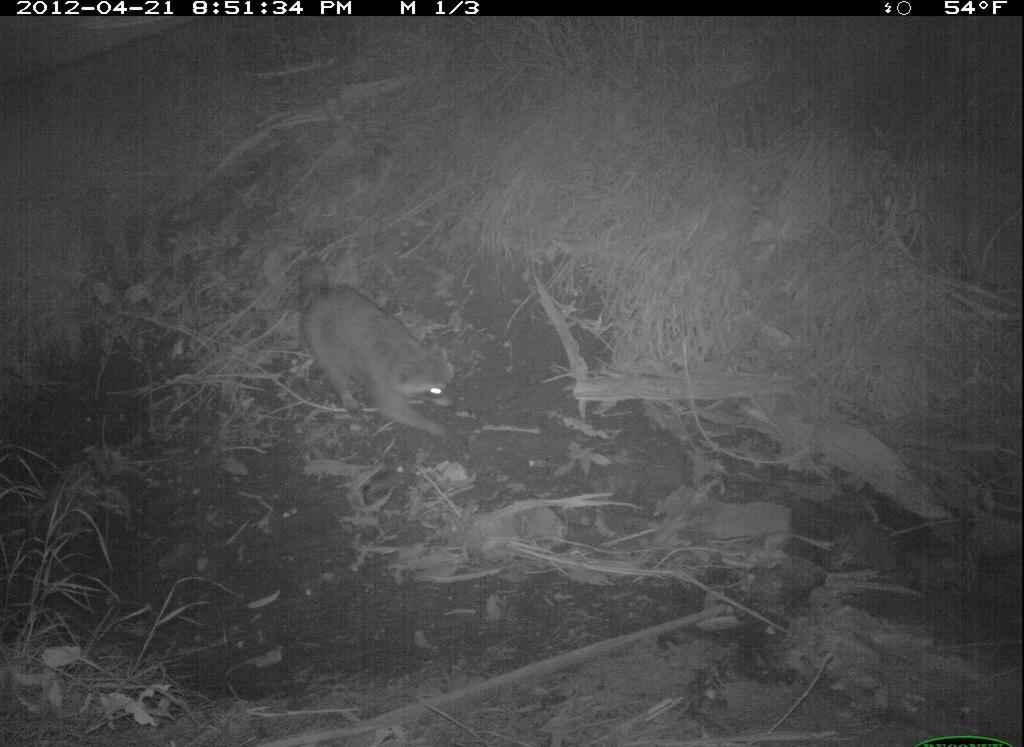raccoon: (290, 257, 481, 464)
